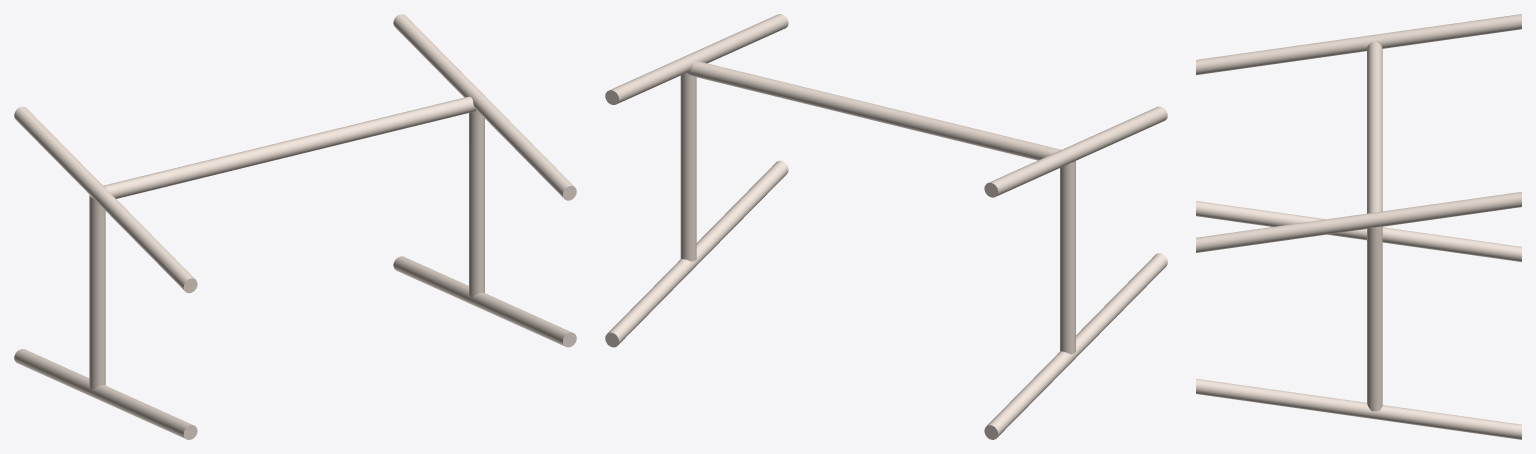
The model's file is MeshRobothorDeskLillasen_0_GeomSubset_1.obj.
3 views of the same model, side by side, from view 1: azimuth 30°, elevation 25°; view 2: azimuth 150°, elevation 25°; view 3: azimuth 270°, elevation 25° (orthographic). The views are drawn at different scales.
Parts seen in each view (by area): view 1: MeshRobothorDeskLillasen_0_GeomSubset_1; view 2: MeshRobothorDeskLillasen_0_GeomSubset_1; view 3: MeshRobothorDeskLillasen_0_GeomSubset_1.
Part boxes in pixels (x1,y1,x2,y2): MeshRobothorDeskLillasen_0_GeomSubset_1: [14, 14, 576, 439]; MeshRobothorDeskLillasen_0_GeomSubset_1: [605, 14, 1167, 439]; MeshRobothorDeskLillasen_0_GeomSubset_1: [1196, 14, 1521, 439].
Size of the model in its own units: 0.8611 by 0.5374 by 0.6427.
